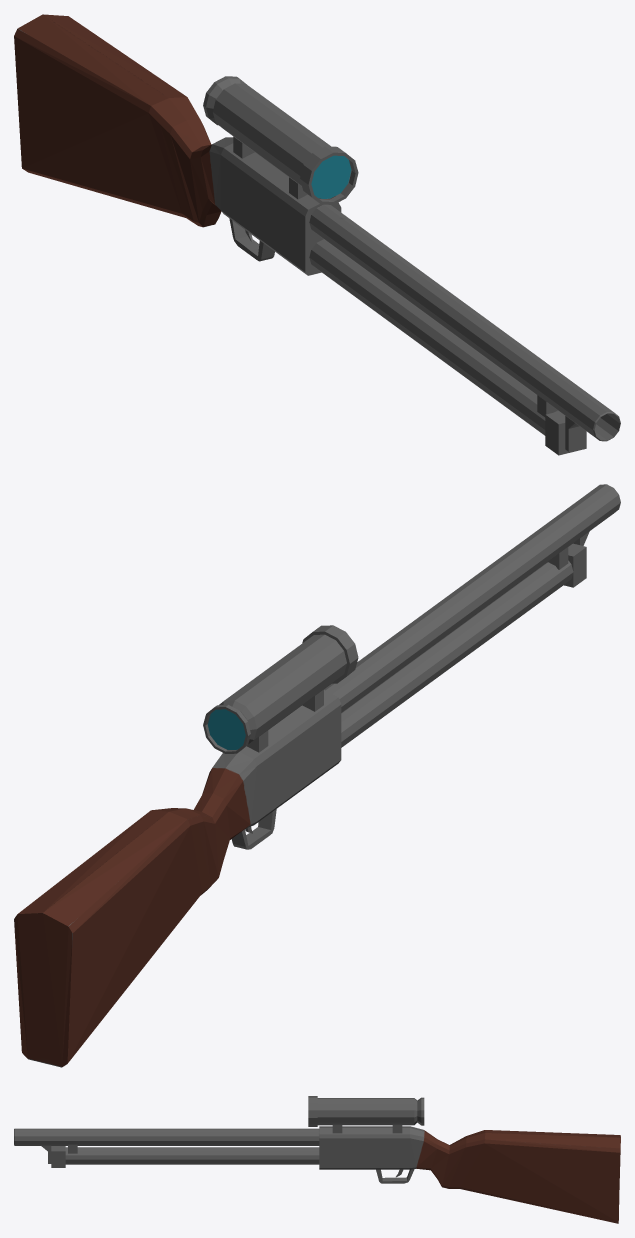
The model's file is Rifle.obj.
The picture shows the model from 3 angles, top to bottom: view 1: azimuth 30°, elevation 25°; view 2: azimuth 150°, elevation 25°; view 3: azimuth 270°, elevation 25°; orthographic projection. The views are drawn at different scales.
Parts seen in each view (by area): view 1: Rifle; view 2: Rifle; view 3: Rifle.
Boxes of the visible parts, bbox=[...] form: Rifle: bbox=[14, 14, 620, 455]; Rifle: bbox=[14, 484, 620, 1067]; Rifle: bbox=[14, 1096, 620, 1223].
Bounding box in the file's own units: 0.5468 × 2.02 × 9.11.
Materials: 1 (1 with a texture image).
